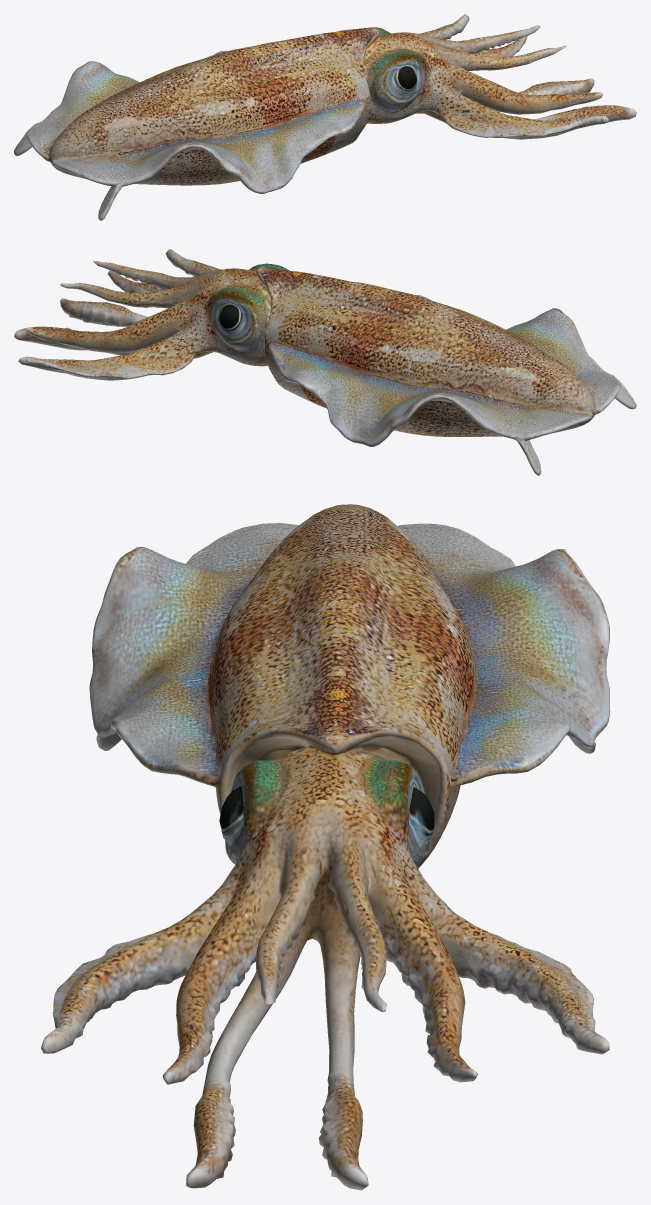
File: squid.glb
The picture shows the model from 3 angles, top to bottom: view 1: azimuth 30°, elevation 25°; view 2: azimuth 150°, elevation 25°; view 3: azimuth 270°, elevation 25°; orthographic projection. The views are drawn at different scales.
Visible parts, largest first — view 1: tripo_node_ab97c7cd-33f4-4788-8939-f557845aa811; view 2: tripo_node_ab97c7cd-33f4-4788-8939-f557845aa811; view 3: tripo_node_ab97c7cd-33f4-4788-8939-f557845aa811.
Part boxes in pixels (<box>): tripo_node_ab97c7cd-33f4-4788-8939-f557845aa811: <box>14,14,636,220</box>; tripo_node_ab97c7cd-33f4-4788-8939-f557845aa811: <box>14,249,636,475</box>; tripo_node_ab97c7cd-33f4-4788-8939-f557845aa811: <box>41,504,610,1190</box>.
Bounding box in the file's own units: 1 × 0.2242 × 0.448.
Materials: 1 (1 with a texture image).
